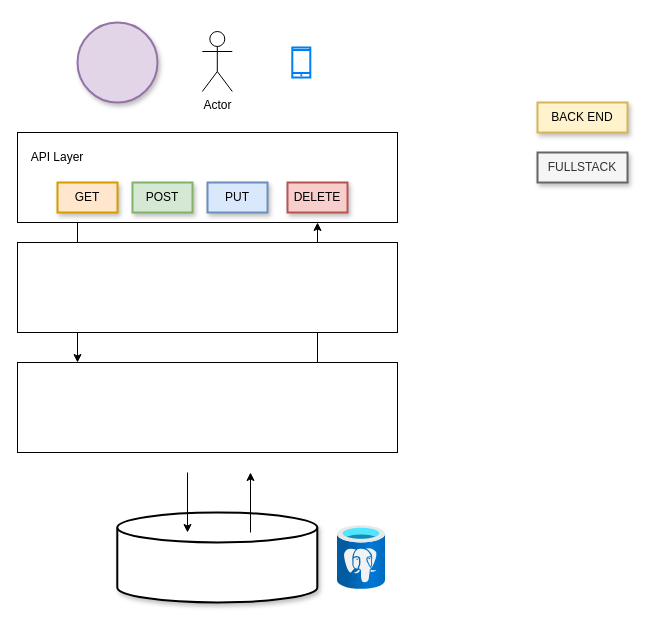
Some shapes in this 652 by 627 pixel diagram are drawn without their labels. Here are the shapes that lost their labels. From the top down, the centre of each, then its label:
At [118,63]: "Some front-end technologies".
At [207,287]: "Service Layer".
At [207,407]: "DATA Acces Layer".
At [218,558]: "Database".
